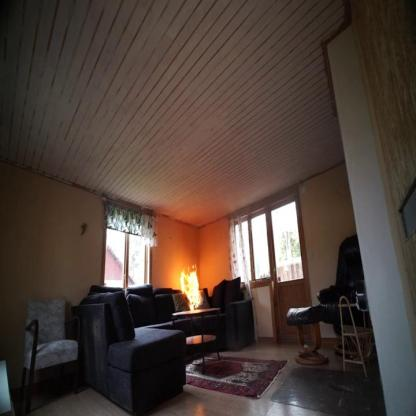fire: (178, 262, 203, 314)
